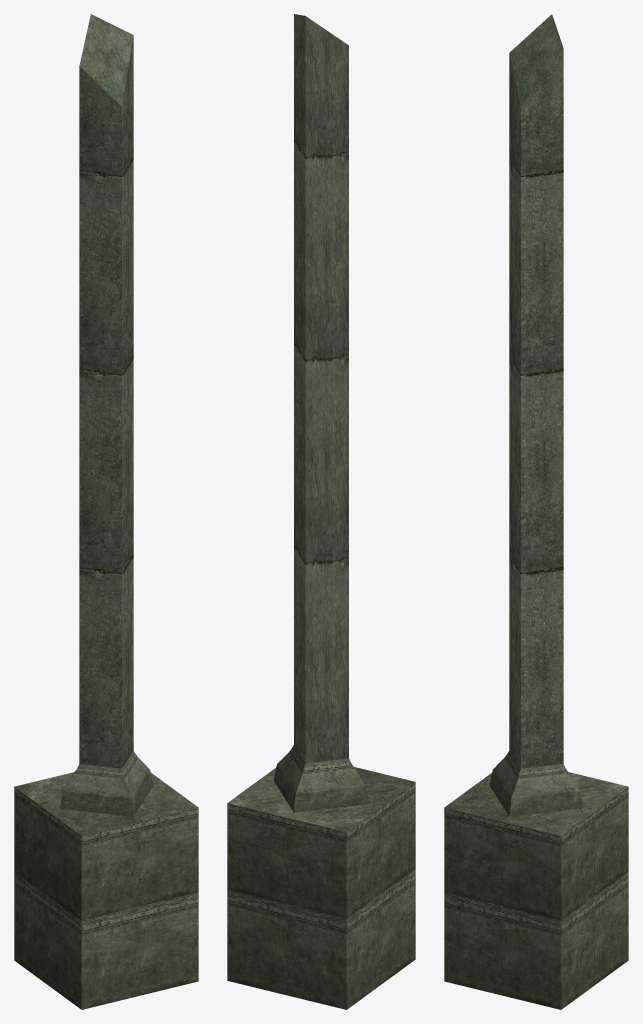
The model's file is thm_dant_jedi_temple_pillar_l2.fbx.
3 views of the same model, side by side, from view 1: azimuth 30°, elevation 25°; view 2: azimuth 150°, elevation 25°; view 3: azimuth 330°, elevation 25° (orthographic). The views are drawn at different scales.
Visible parts, largest first — view 1: mesh_node; view 2: mesh_node; view 3: mesh_node.
Part boxes in pixels (box(x1,y1,x2,y2)): mesh_node: box(14, 14, 198, 1009); mesh_node: box(227, 14, 415, 1009); mesh_node: box(444, 14, 628, 1009).
Size of the model in its own units: 2 by 15.47 by 2.
